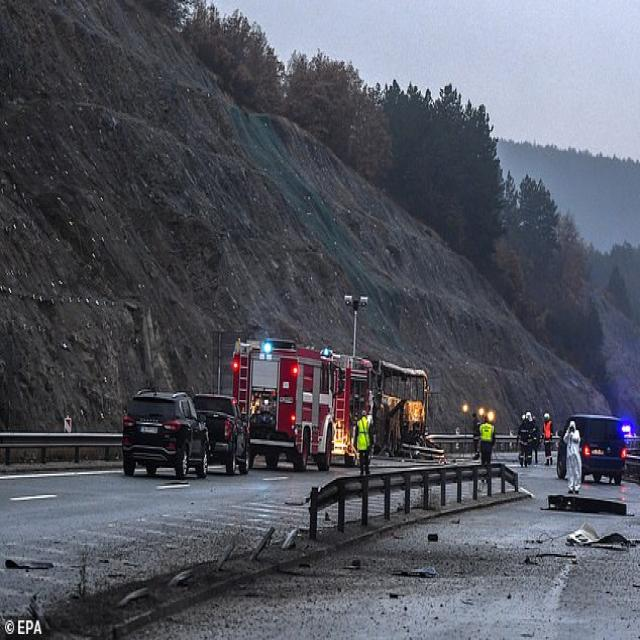Accident: (226, 334, 423, 474)
